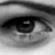eye: (16, 20, 35, 33)
